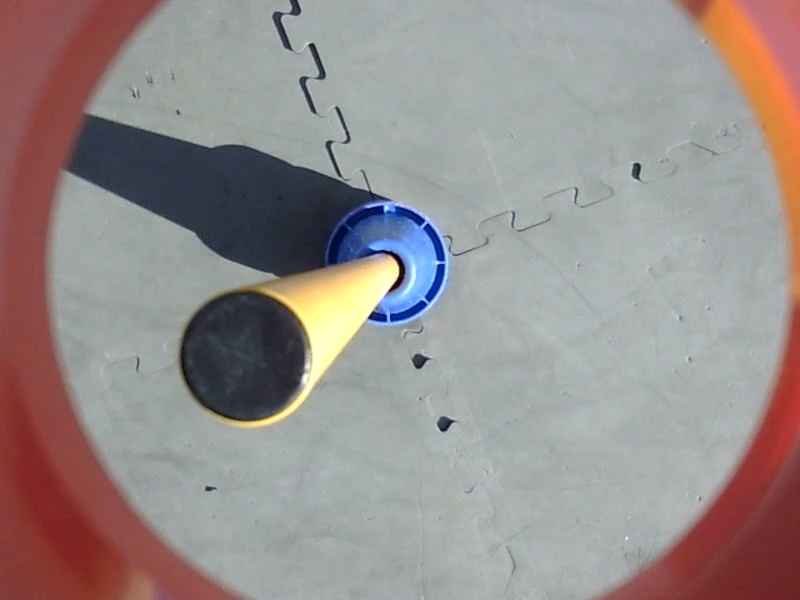tip: (173, 282, 320, 434)
